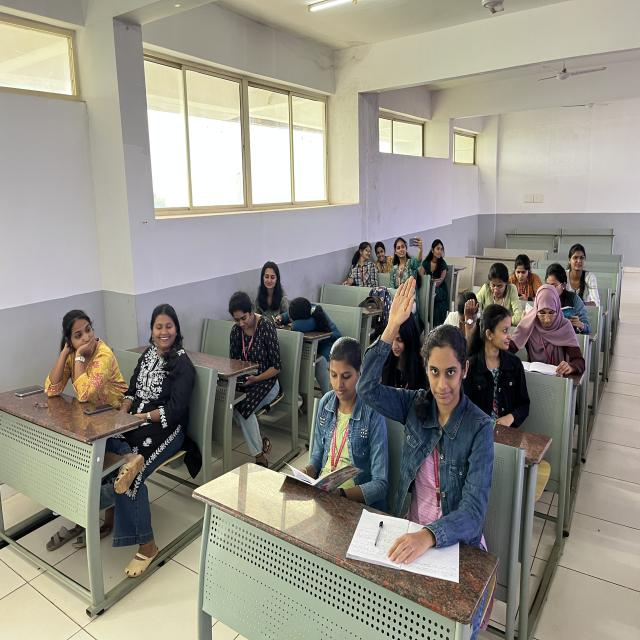Hand Rising: (363, 268, 478, 534)
Reading: (283, 334, 389, 509), (512, 282, 582, 376), (542, 262, 594, 330), (475, 260, 523, 318)
Sleeping: (278, 292, 346, 350)
Using Phone: (224, 286, 282, 388), (389, 235, 425, 291), (505, 250, 544, 301)
